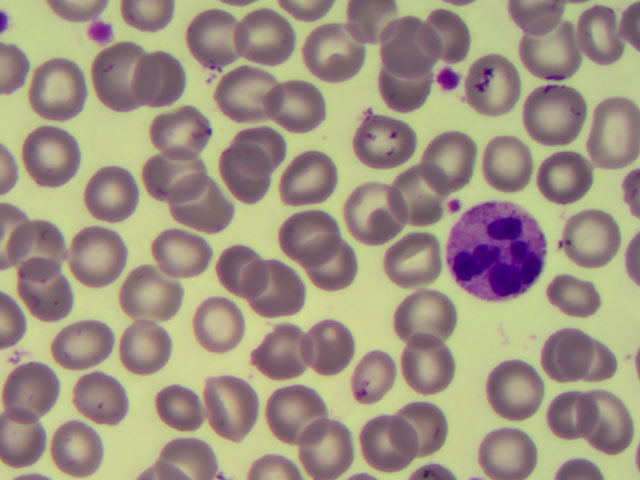Platelets: (86, 16, 115, 48), (438, 65, 460, 88)
RBC: (157, 422, 214, 480), (30, 61, 87, 118), (23, 127, 80, 184), (82, 167, 139, 224), (68, 222, 125, 279), (11, 218, 68, 275), (16, 264, 73, 321), (54, 314, 111, 371), (72, 370, 129, 427), (52, 418, 109, 475), (5, 408, 62, 465), (6, 357, 63, 414), (141, 376, 198, 433), (194, 380, 251, 437), (113, 324, 170, 381), (122, 262, 179, 319), (158, 230, 215, 287), (171, 184, 228, 241), (153, 144, 210, 201), (154, 105, 211, 162), (138, 51, 195, 108), (96, 47, 153, 104), (182, 10, 239, 67), (214, 63, 271, 120), (275, 76, 332, 133), (233, 7, 290, 64), (315, 26, 372, 83), (367, 11, 424, 68), (378, 56, 435, 113), (419, 5, 476, 62), (464, 56, 521, 113), (533, 85, 590, 142), (529, 29, 586, 86), (574, 4, 631, 61), (583, 101, 640, 158), (537, 146, 594, 203), (476, 133, 533, 190), (417, 128, 474, 185), (388, 163, 445, 220), (346, 188, 403, 245), (352, 112, 409, 169), (283, 202, 340, 259), (288, 149, 345, 206), (223, 141, 280, 198), (236, 113, 293, 170), (301, 243, 358, 300), (255, 261, 312, 318), (223, 247, 280, 304), (247, 325, 304, 382), (302, 315, 359, 372), (341, 343, 398, 400), (271, 385, 328, 442), (296, 413, 353, 470), (351, 416, 408, 473), (393, 395, 450, 452), (402, 333, 459, 390), (396, 285, 453, 342), (381, 237, 438, 294), (540, 266, 597, 323), (567, 201, 624, 258), (543, 326, 600, 383), (569, 329, 626, 386), (479, 362, 536, 419), (469, 419, 526, 476), (531, 389, 588, 446), (568, 397, 625, 454), (190, 295, 239, 349), (242, 447, 296, 480)
WBC: (450, 197, 555, 312)
